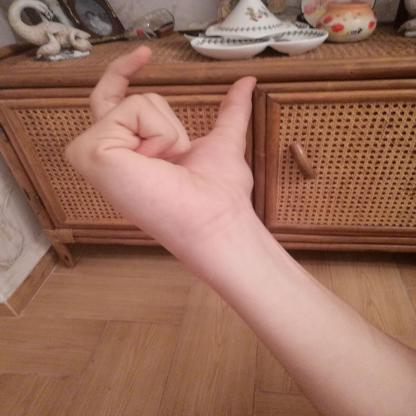NOON: (42, 36, 282, 255)
